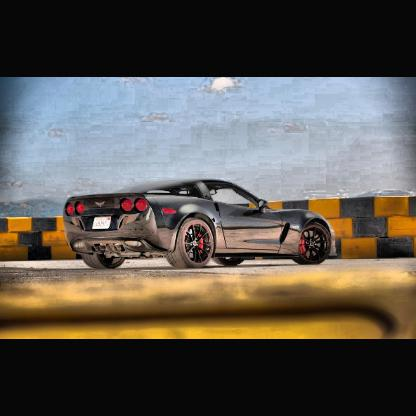Chevrolet Corvette ZR1 2012: (64, 176, 335, 269)
